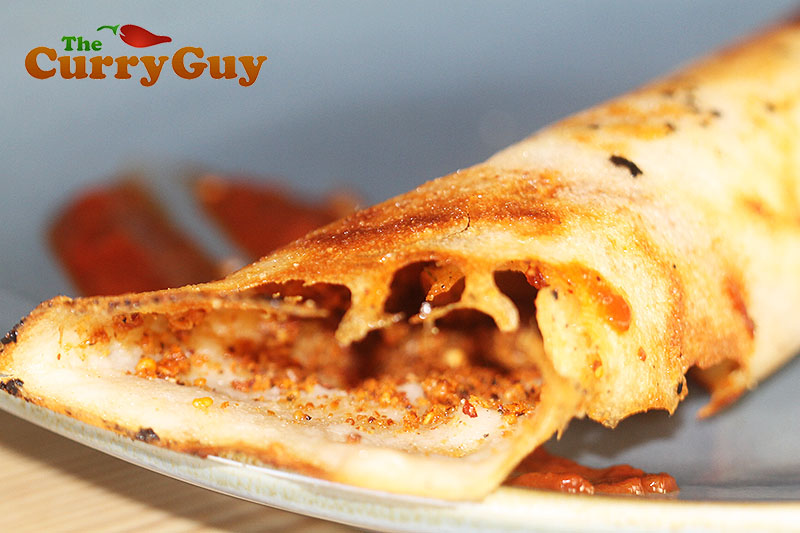dosa: (2, 5, 800, 504)
